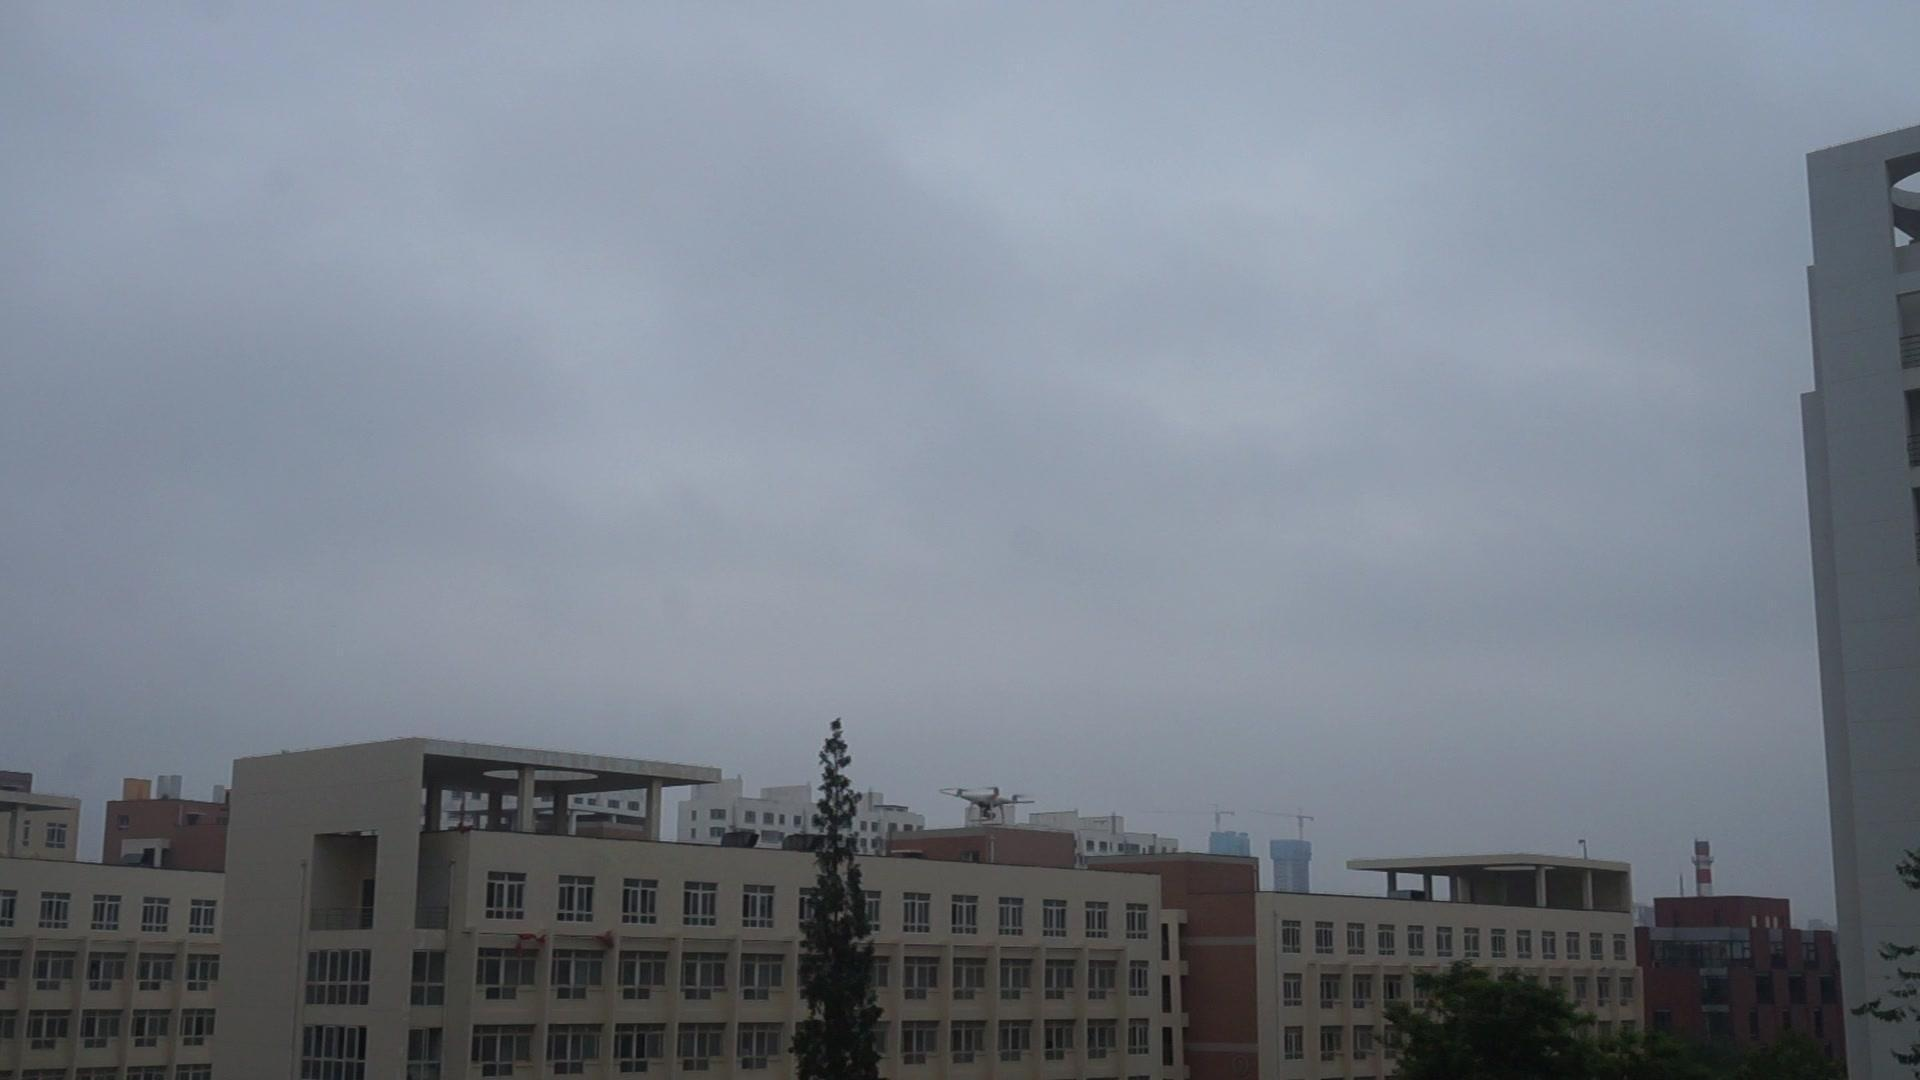UAV: (939, 787, 1036, 825)
